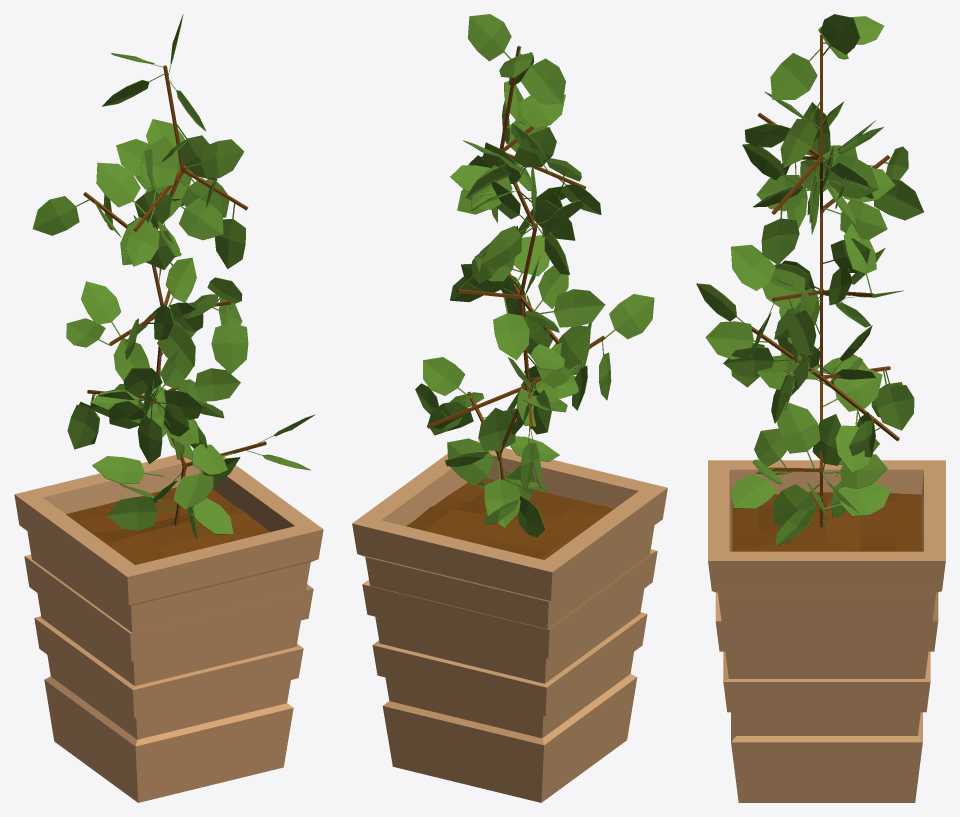
The model's file is low_poly_style_plant.glb.
3 views of the same model, side by side, from view 1: azimuth 30°, elevation 25°; view 2: azimuth 150°, elevation 25°; view 3: azimuth 270°, elevation 25° (orthographic). The views are drawn at different scales.
Visible parts, largest first — view 1: Cube, Cube.001, Plane, leaf.043, leaf.061, leaf.026, leaf.011, leaf.039, leaf.059, leaf.055, leaf.080, leaf.076 (+25 smaller); view 2: Cube, Cube.001, Plane, leaf.079, leaf.031, leaf.033, leaf.070, leaf.053, leaf.013, leaf.052, leaf.016, leaf.037 (+19 smaller); view 3: Cube, Cube.001, Plane, leaf.032, leaf.048, leaf.042, leaf.046, leaf.084, leaf.068, leaf.018, leaf.037, leaf.012 (+31 smaller).
Boxes of the visible parts, left/top/right/bottom form: Cube: left=14, top=451, right=323, bottom=802; Cube.001: left=66, top=487, right=269, bottom=564; Plane: left=83, top=65, right=266, bottom=525; leaf.043: left=211, top=304, right=248, bottom=373; leaf.061: left=96, top=162, right=145, bottom=213; leaf.026: left=171, top=198, right=223, bottom=240; leaf.011: left=107, top=497, right=176, bottom=530; leaf.039: left=32, top=196, right=89, bottom=235; leaf.059: left=140, top=136, right=178, bottom=203; leaf.055: left=185, top=139, right=244, bottom=177; leaf.080: left=81, top=281, right=121, bottom=335; leaf.076: left=177, top=368, right=240, bottom=401; Cube: left=352, top=440, right=667, bottom=802; Cube.001: left=406, top=478, right=613, bottom=559; Plane: left=427, top=46, right=605, bottom=479; leaf.079: left=540, top=289, right=605, bottom=327; leaf.031: left=468, top=14, right=511, bottom=61; leaf.033: left=519, top=53, right=565, bottom=104; leaf.070: left=600, top=294, right=654, bottom=342; leaf.053: left=493, top=297, right=529, bottom=360; leaf.013: left=447, top=438, right=495, bottom=485; leaf.052: left=423, top=357, right=471, bottom=398; leaf.016: left=478, top=407, right=515, bottom=458; leaf.037: left=482, top=225, right=534, bottom=269; Cube: left=708, top=460, right=945, bottom=802; Cube.001: left=732, top=492, right=921, bottom=551; Plane: left=751, top=35, right=899, bottom=527; leaf.032: left=770, top=46, right=823, bottom=99; leaf.048: left=777, top=402, right=820, bottom=469; leaf.042: left=731, top=244, right=784, bottom=296; leaf.046: left=875, top=368, right=914, bottom=430; leaf.084: left=761, top=201, right=799, bottom=264; leaf.068: left=705, top=321, right=768, bottom=359; leaf.018: left=823, top=366, right=882, bottom=411; leaf.037: left=874, top=178, right=923, bottom=220; leaf.012: left=824, top=482, right=890, bottom=516.
Size of the model in its own units: 294 by 952 by 283.
